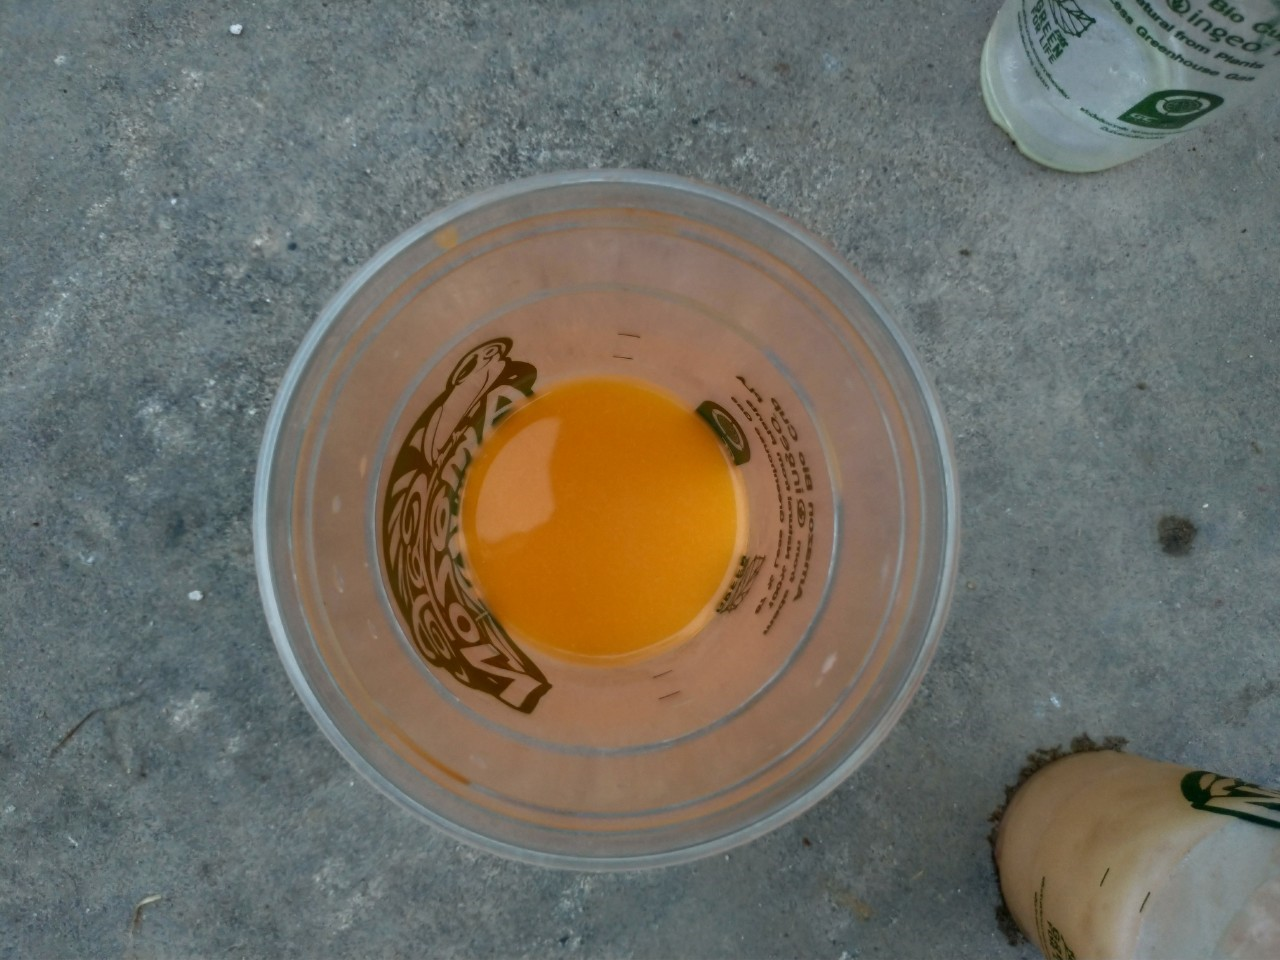PlasticCup: (252, 161, 958, 874), (993, 746, 1280, 959), (980, 1, 1274, 174)
